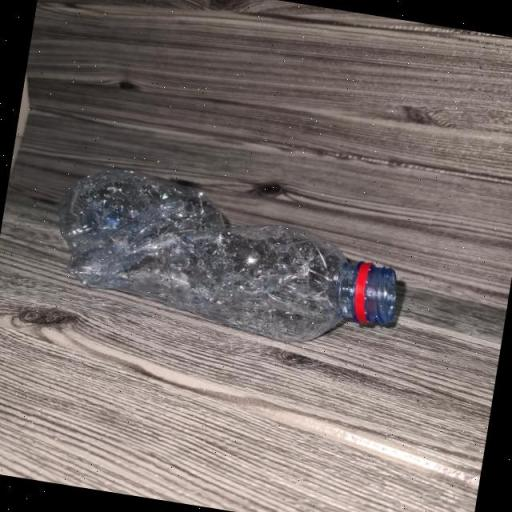plastic: (38, 156, 418, 362)
